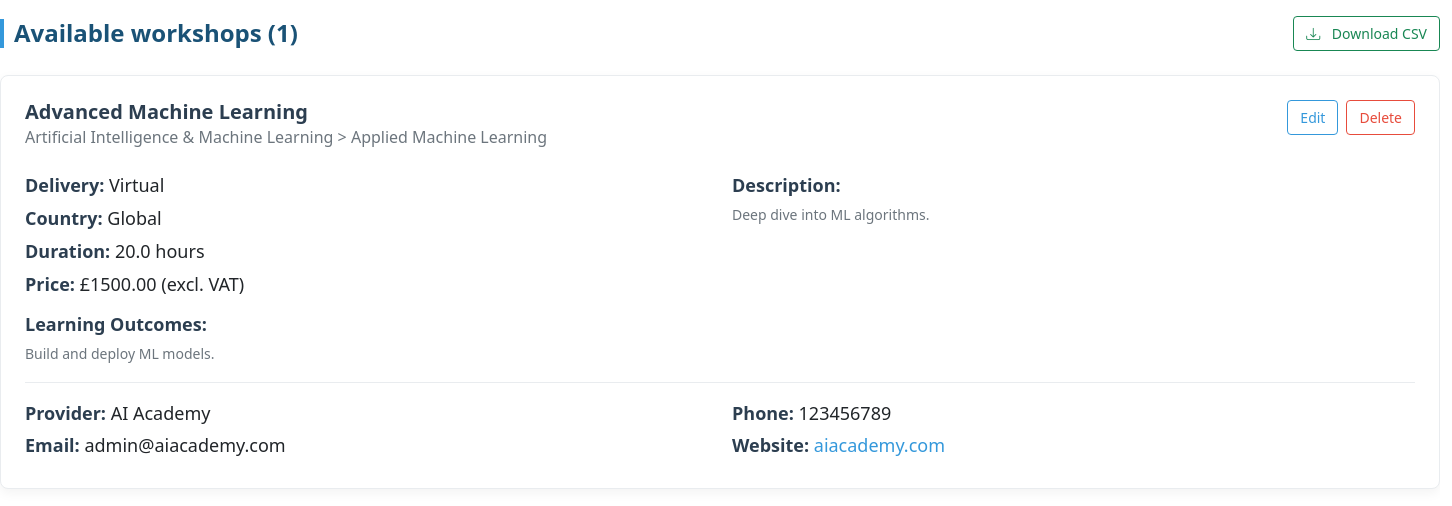
Test case: CoursesAdmin Component › deletes course on confirmation
Expected: the heading "Available workshops (1)" is shown, [0, 19, 298, 48]
Click the button "Delete".
click(1381, 118)  # box [1346, 100, 1415, 135]
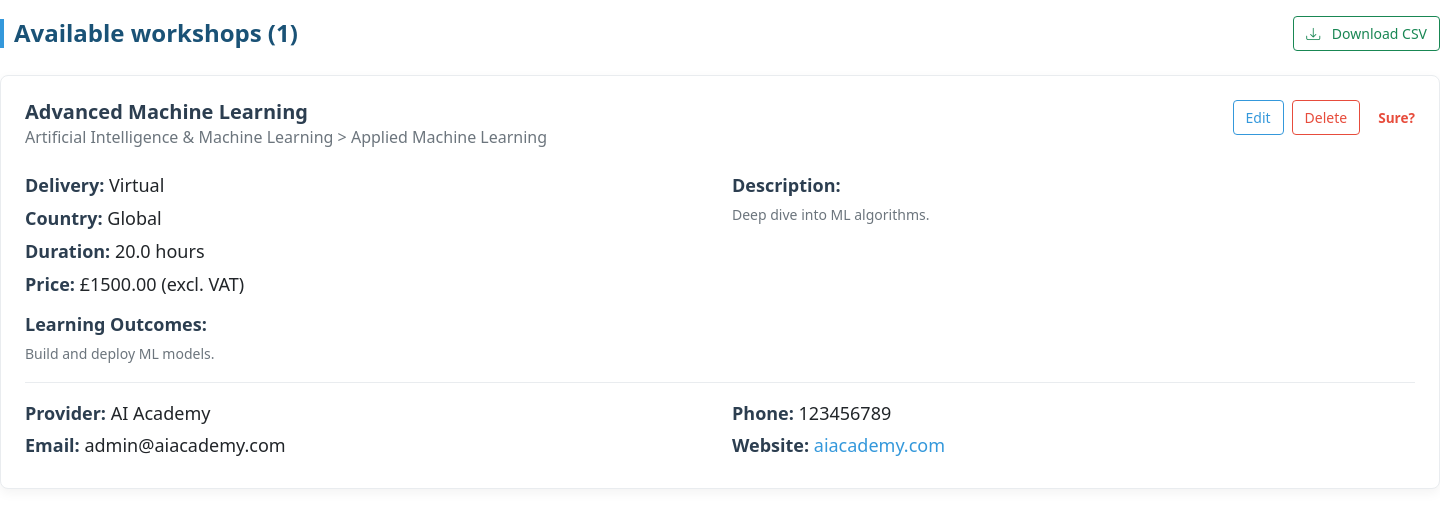
Click the button "Delete".
click(1326, 118)  # box [1292, 100, 1360, 135]
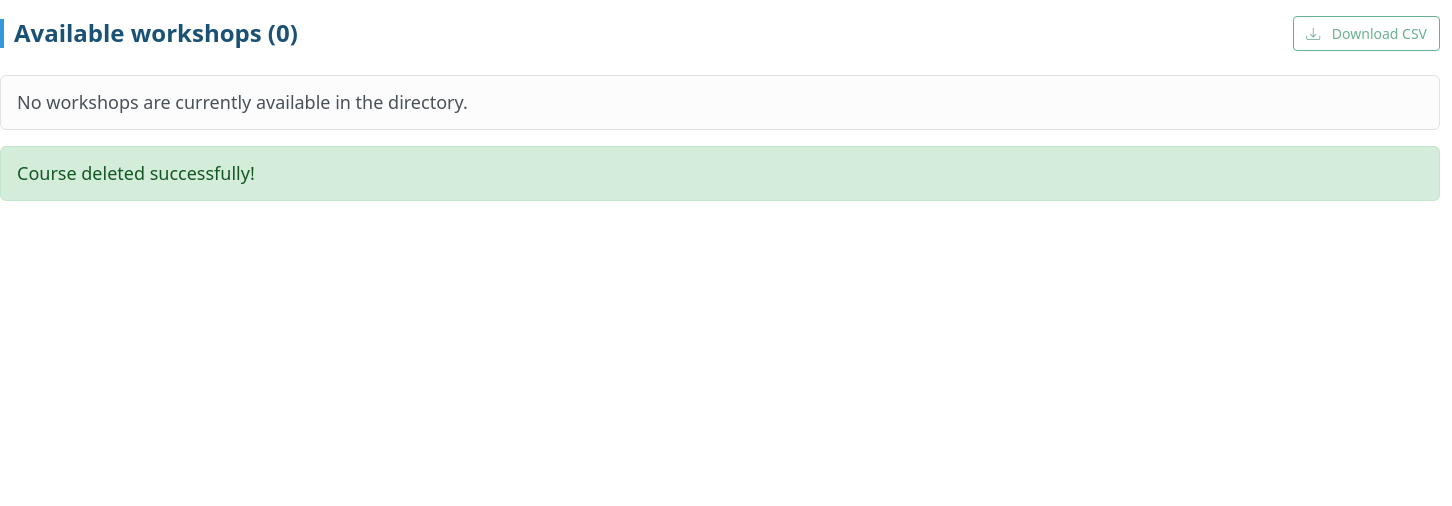
Expected: the text "Course deleted successfully!" is shown, [0, 146, 1440, 201]
